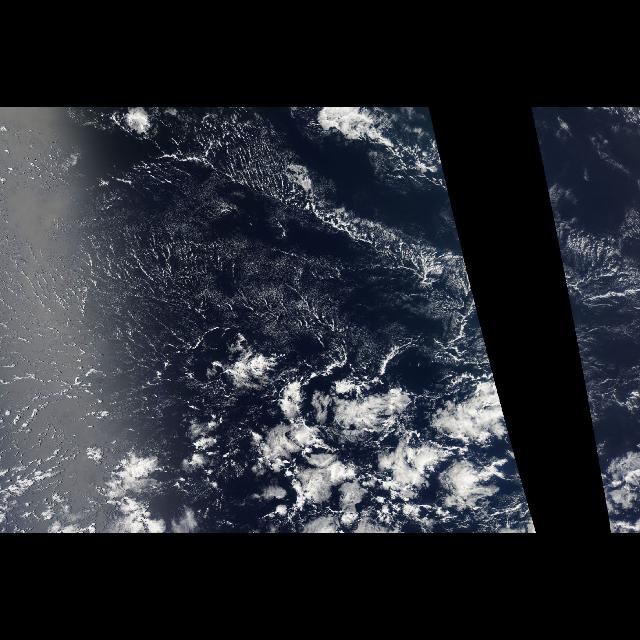Fish: (104, 108, 466, 280)
Flower: (223, 362, 532, 534)
Sugar: (1, 109, 379, 453)
